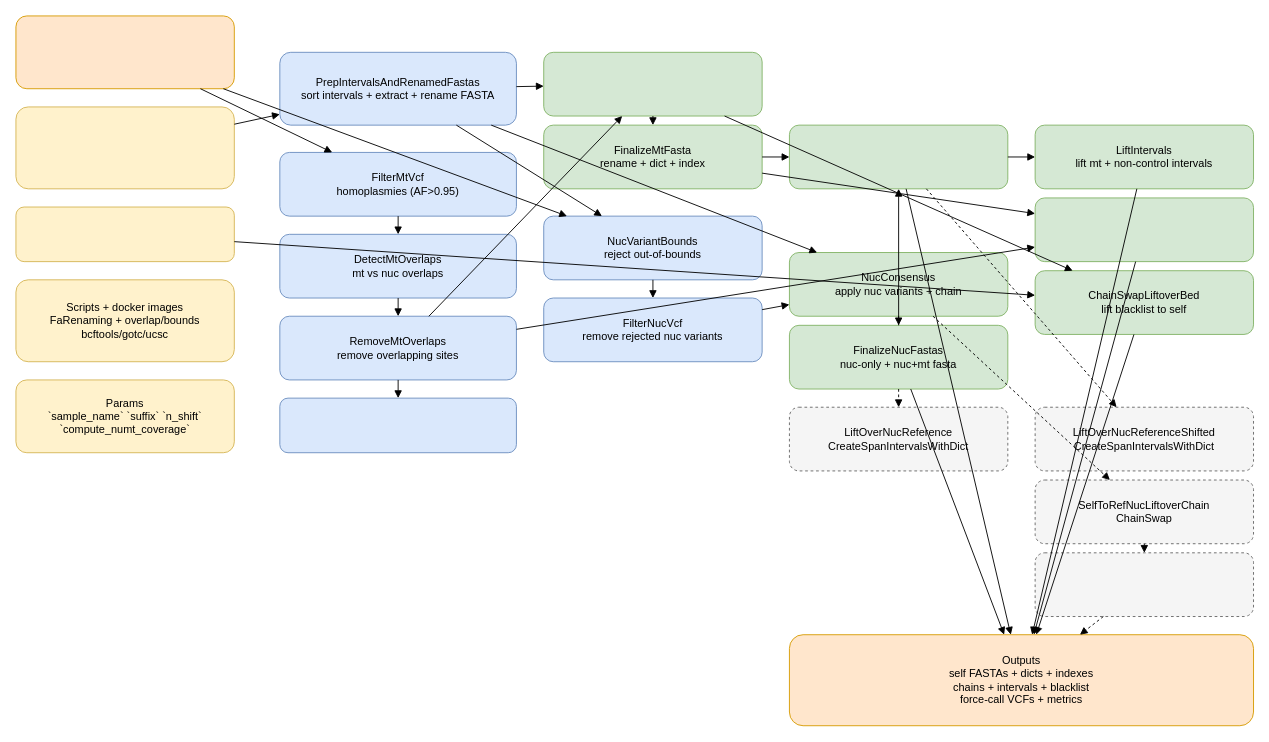
The diagram is 1269 pixels wide and 742 high, and some of its shapes have lost their labels. Here are the shapes that lost their labels. From the top down, the box of each, then its label:
(15, 15, 234, 89): Stage02 variants `split_vcf` (mt) `split_nuc_vcf` (nuc)
(543, 51, 762, 116): MtConsensus apply mt variants + chain
(15, 106, 234, 189): References + intervals mt/ref FASTA+dict+intervals nuc interval list
(789, 124, 1008, 189): ShiftMtReference shifted mt + cat fasta + chains
(15, 206, 234, 262): Blacklisted sites bed + idx
(1034, 197, 1254, 262): ForceCallVcfs reverse homoplasmies + shifted
(279, 397, 516, 453): ValidateMtOverlaps sanity check
(1034, 552, 1254, 617): MoveChainToZero normalize nuc chain
